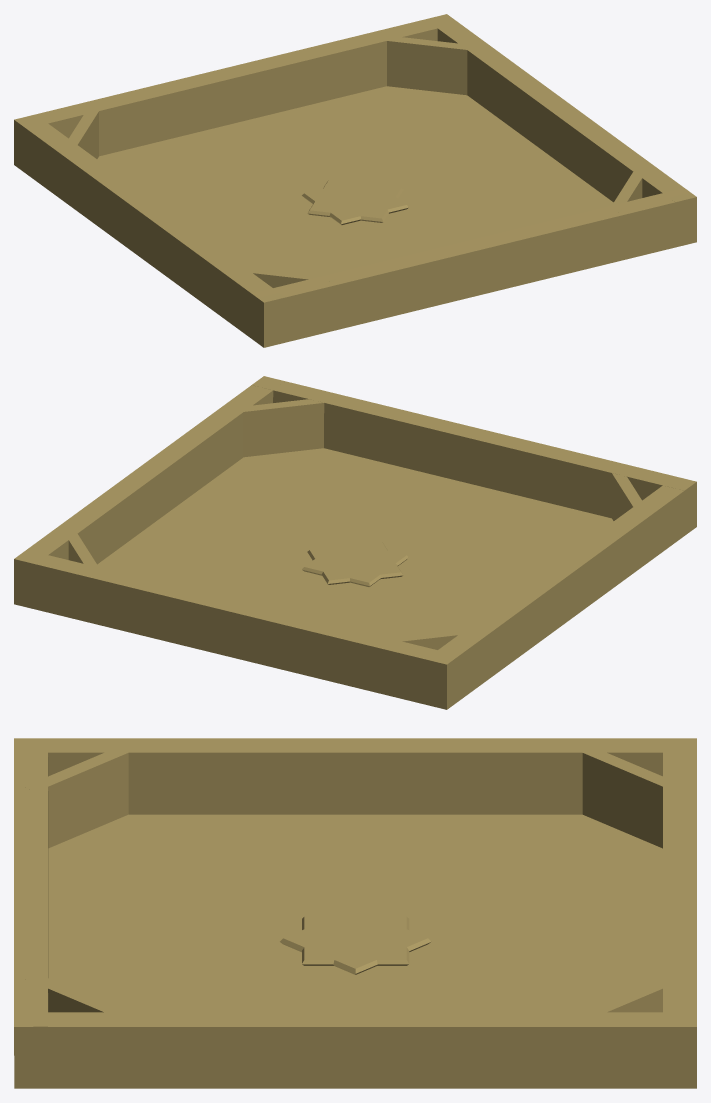
The model's file is arena.fbx.
3 views of the same model, one above another, from view 1: azimuth 30°, elevation 25°; view 2: azimuth 150°, elevation 25°; view 3: azimuth 270°, elevation 25° (orthographic). The views are drawn at different scales.
Visible parts, largest first — view 1: Corner; view 2: Corner; view 3: Corner.
Boxes of the visible parts, x1,y1,x2,y2 form: Corner: (14, 14, 696, 347); Corner: (14, 376, 696, 709); Corner: (14, 738, 696, 1088).
Bounding box in the file's own units: 2000 × 201 × 2001.
